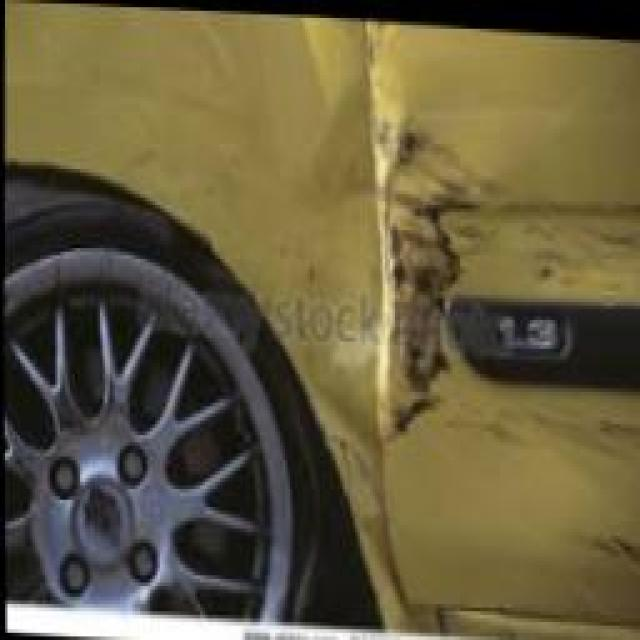Door: (185, 43, 636, 533)
